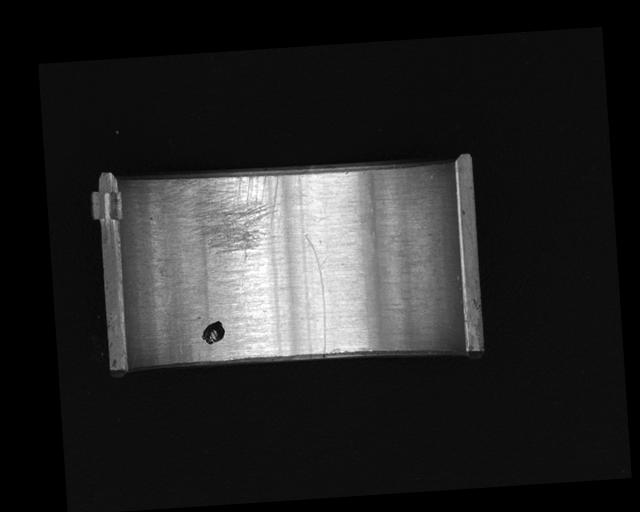blot: (199, 318, 227, 346)
nick: (304, 231, 329, 358)
scratch: (165, 171, 285, 267)
